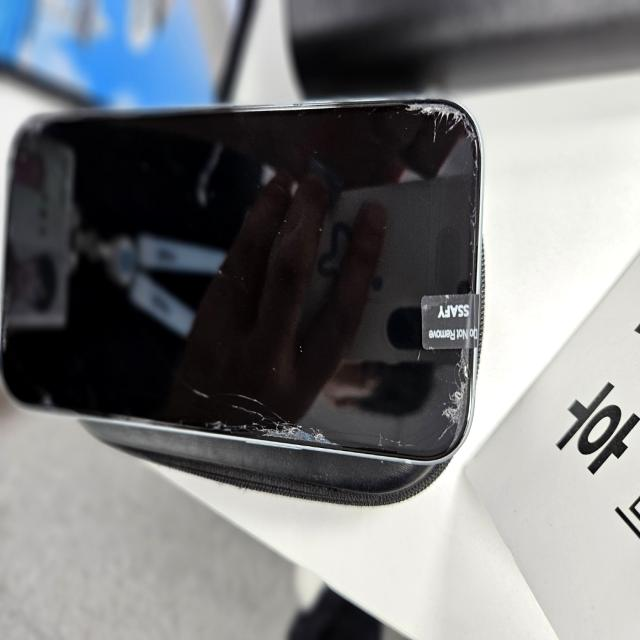phone: (0, 104, 485, 461)
sticker: (413, 293, 484, 357)
